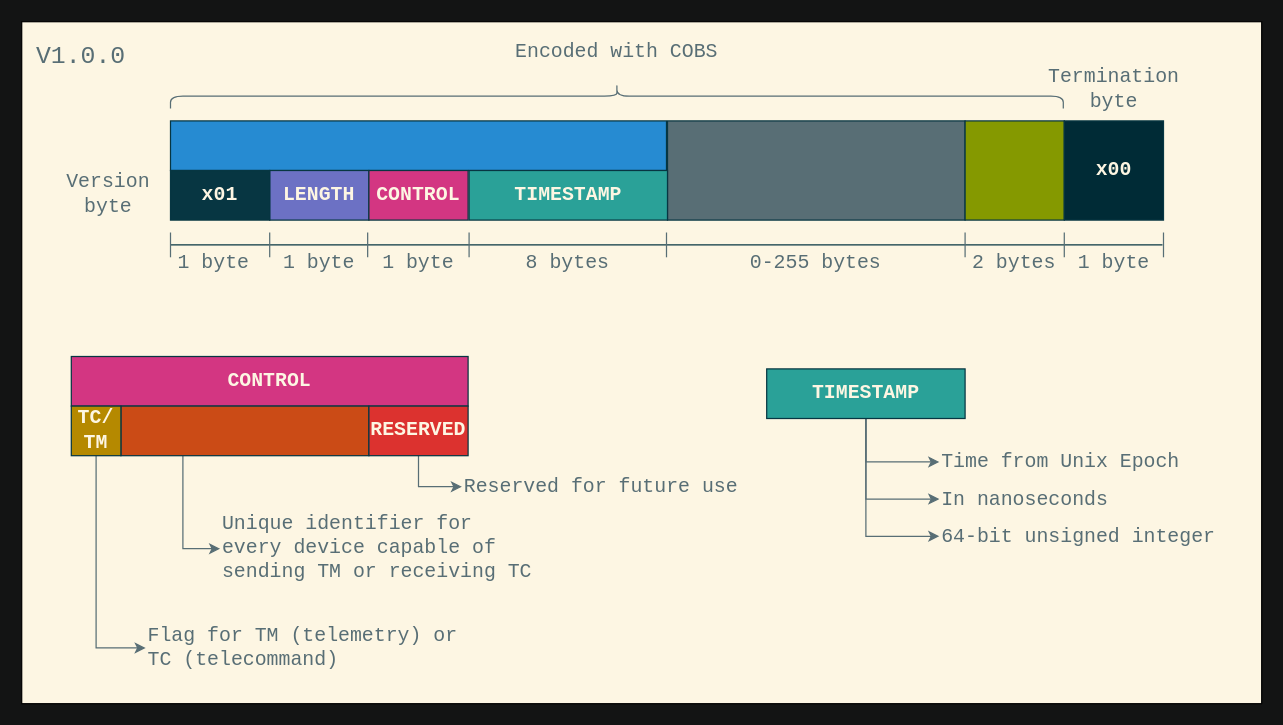
This 1283x725 diagram has some shape labels left out. Each missing label, with the centre of its shape:
CRC: pixel 1014 170
DEVICE ID: pixel 244 430
HEADER: pixel 417 145
PAYLOAD: pixel 815 170
